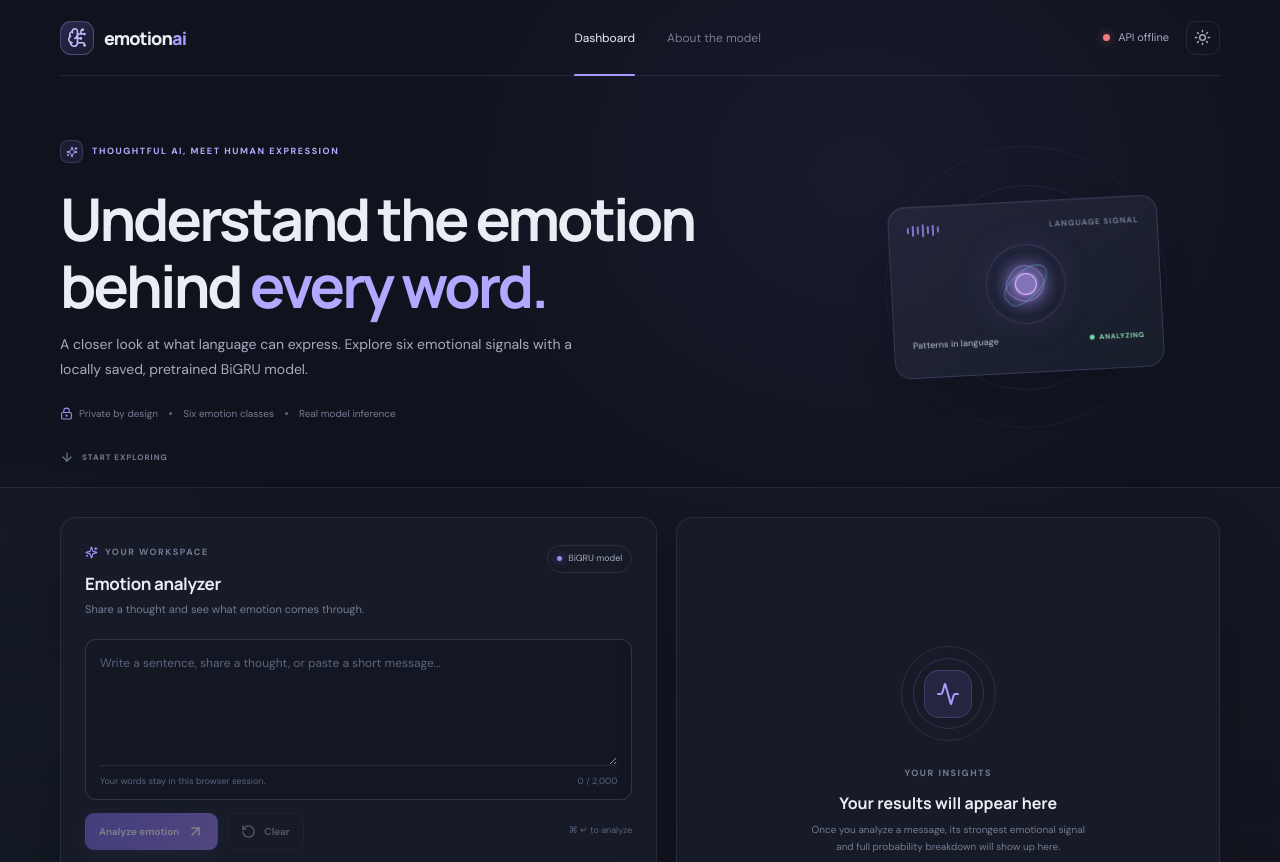
Test: EmotionAI dashboard › preserves entered text and shows a retry action when the API fails
Type "Keep this sentence." into the text box named "Text to analyze" at coordinates (359, 709), box [100,653,617,765]
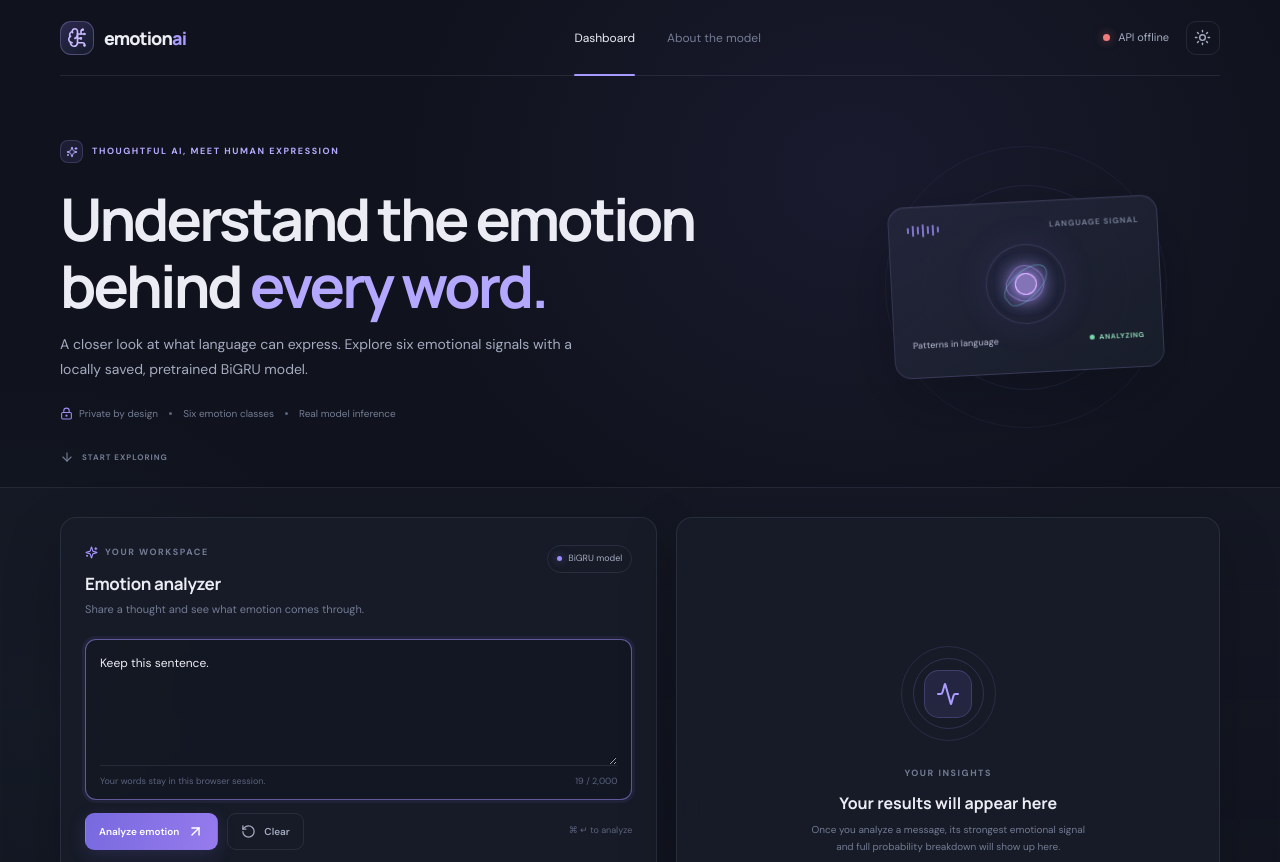
Click the button "Analyze emotion" at coordinates (152, 831), box [85,813,218,850]
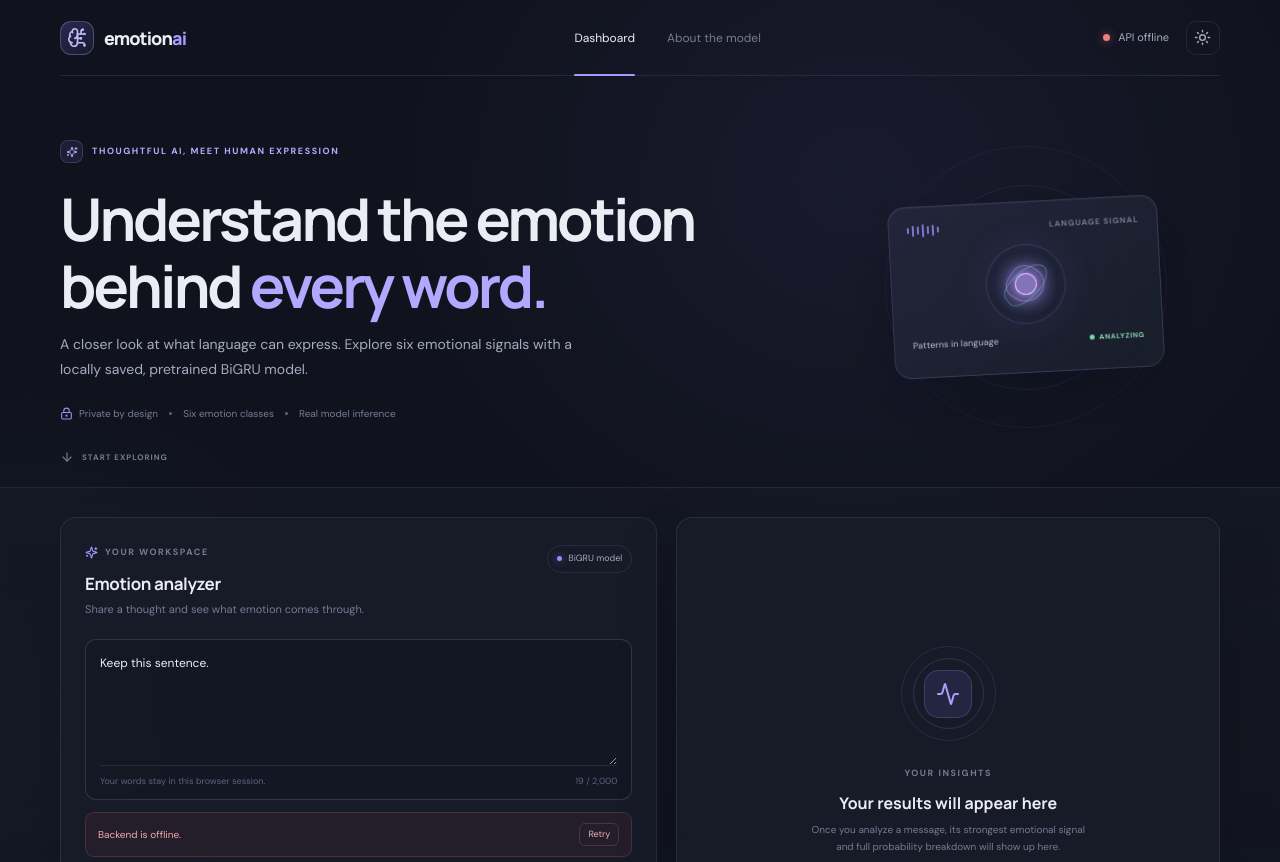
Expected: the message "Backend is offline. Retry" is shown, [85,812,632,857]
Click the button "Retry" at coordinates (599, 834), box [580,823,619,846]
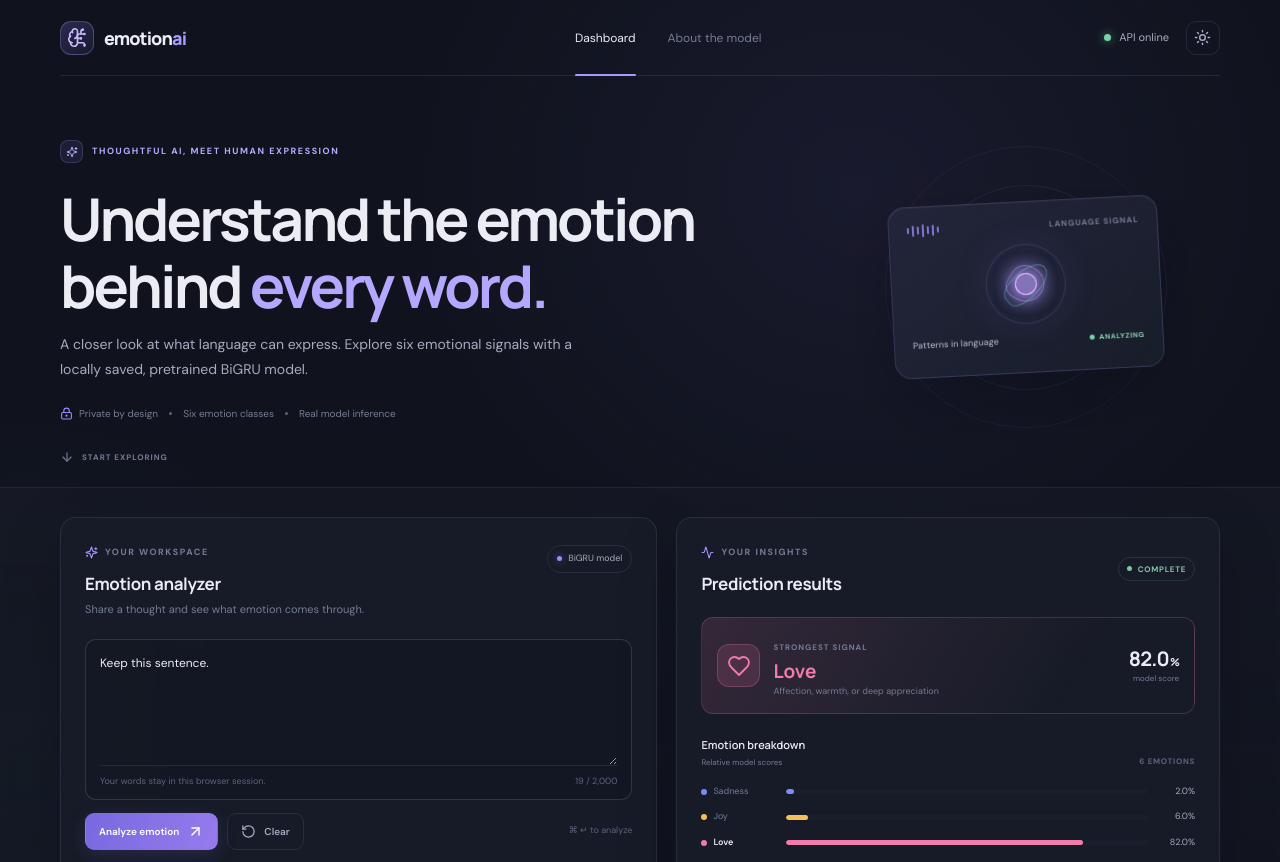
Expected: the heading "Love" is shown, [773,658,816,684]
